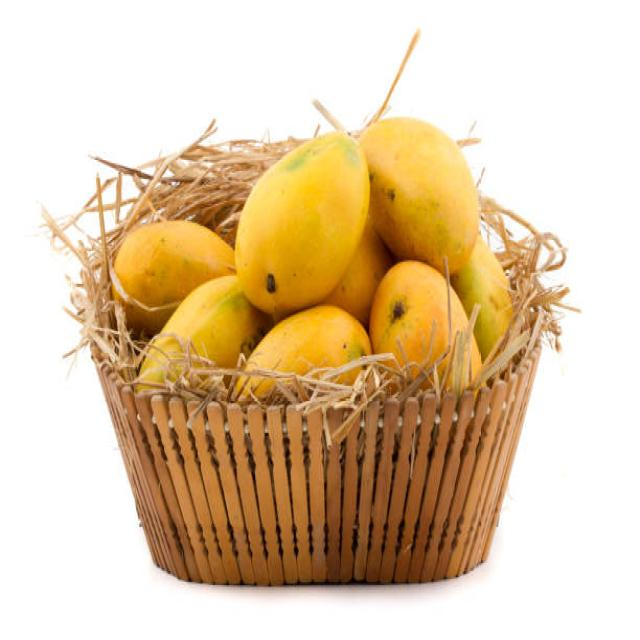mango: (235, 133, 370, 318), (360, 118, 479, 273), (139, 276, 271, 389), (370, 261, 481, 395), (110, 221, 234, 334), (227, 306, 371, 402), (450, 234, 514, 359)
